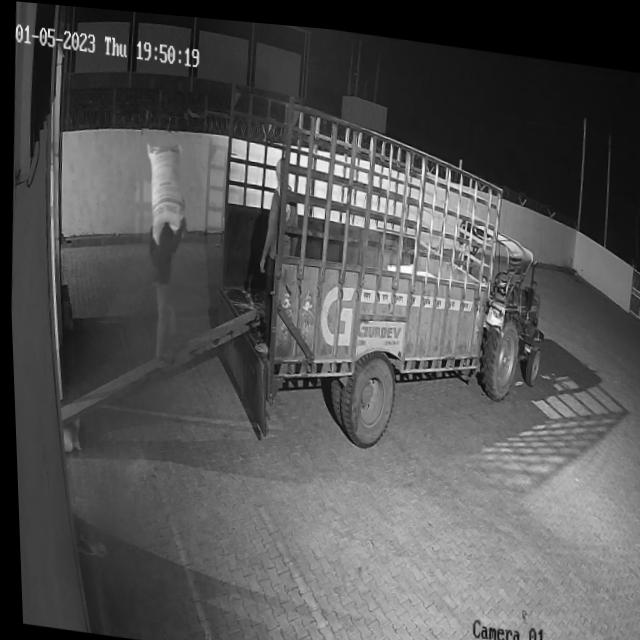sack: (142, 139, 184, 242)
